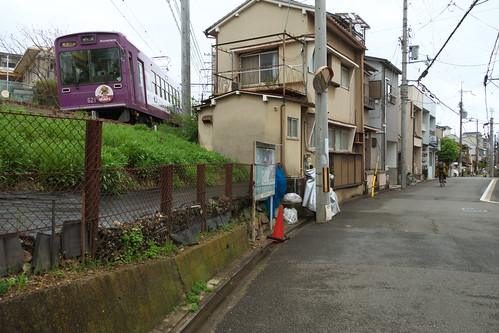building: (207, 1, 365, 198), (363, 54, 404, 193), (404, 85, 441, 184)
street: (210, 174, 499, 333)
train: (53, 24, 186, 129)
